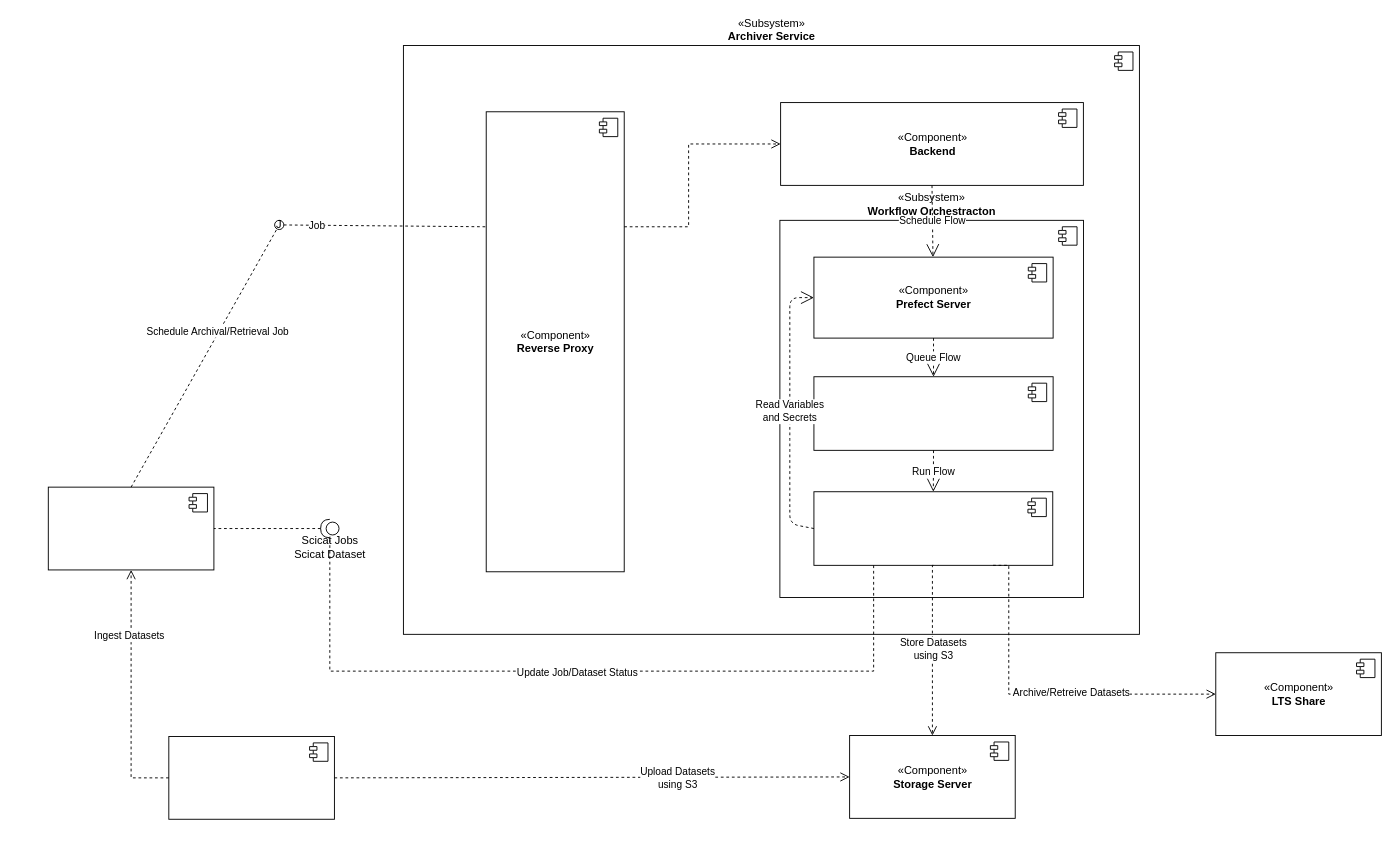
Image size: 1397x853. Some labels were removed from this diagram. The centre of each missing label's shape, as x and y in pixels:
"«Component» Ingestor" belongs at [251,777].
"«Component» Prefect Flow" belongs at [933,528].
"«Component» Prefect Worker" belongs at [933,413].
"«Component» Scicat Backend" belongs at [130,528].
